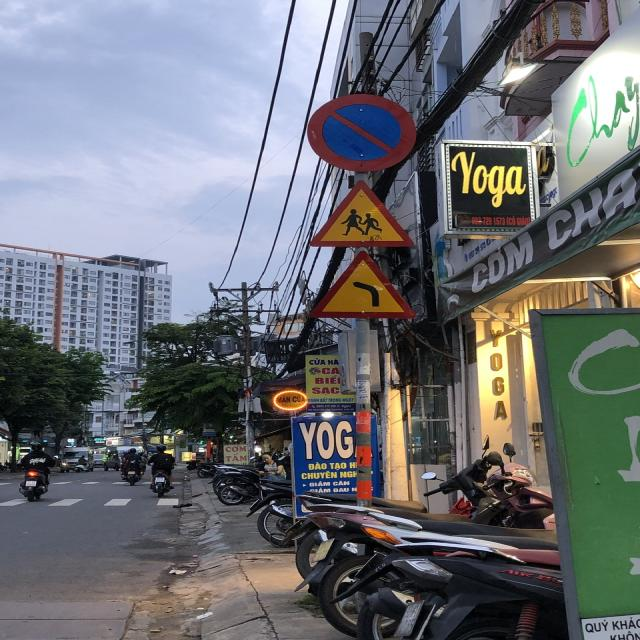Bien bao cam do xe: (298, 86, 424, 178)
Bien bao cho ngoat nguy hiem: (296, 248, 432, 323)
Bien bao tre em: (302, 177, 421, 255)
